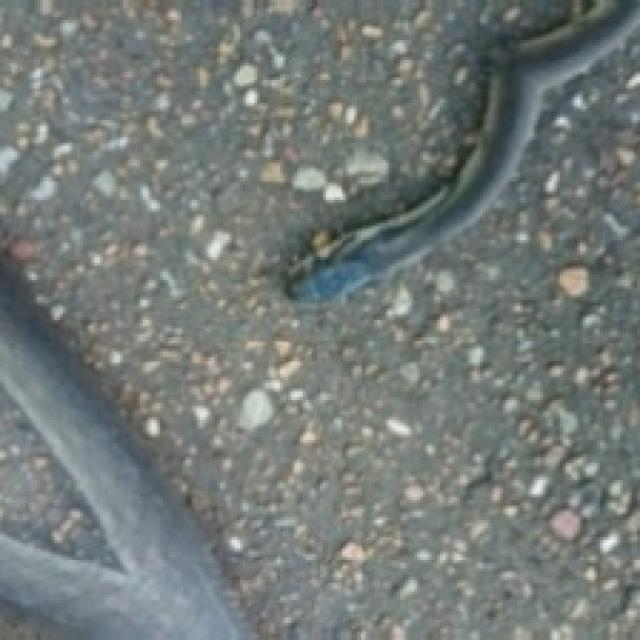reddish rat snake: (286, 0, 637, 300)
